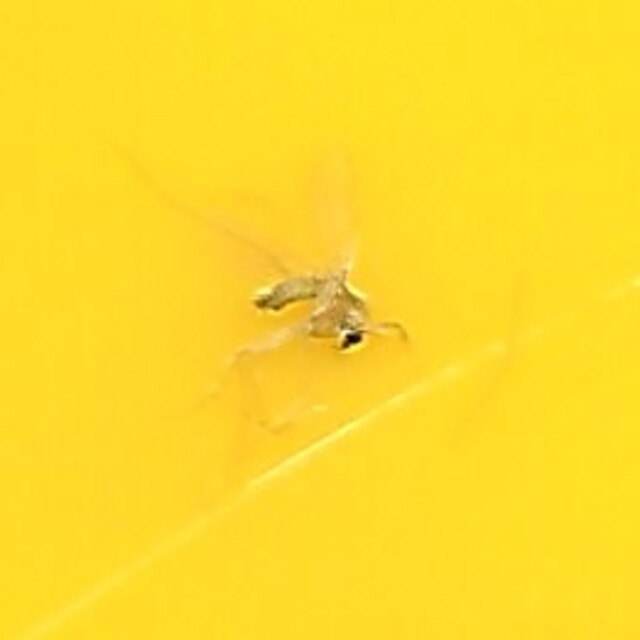Nematocera: (245, 256, 395, 384)
